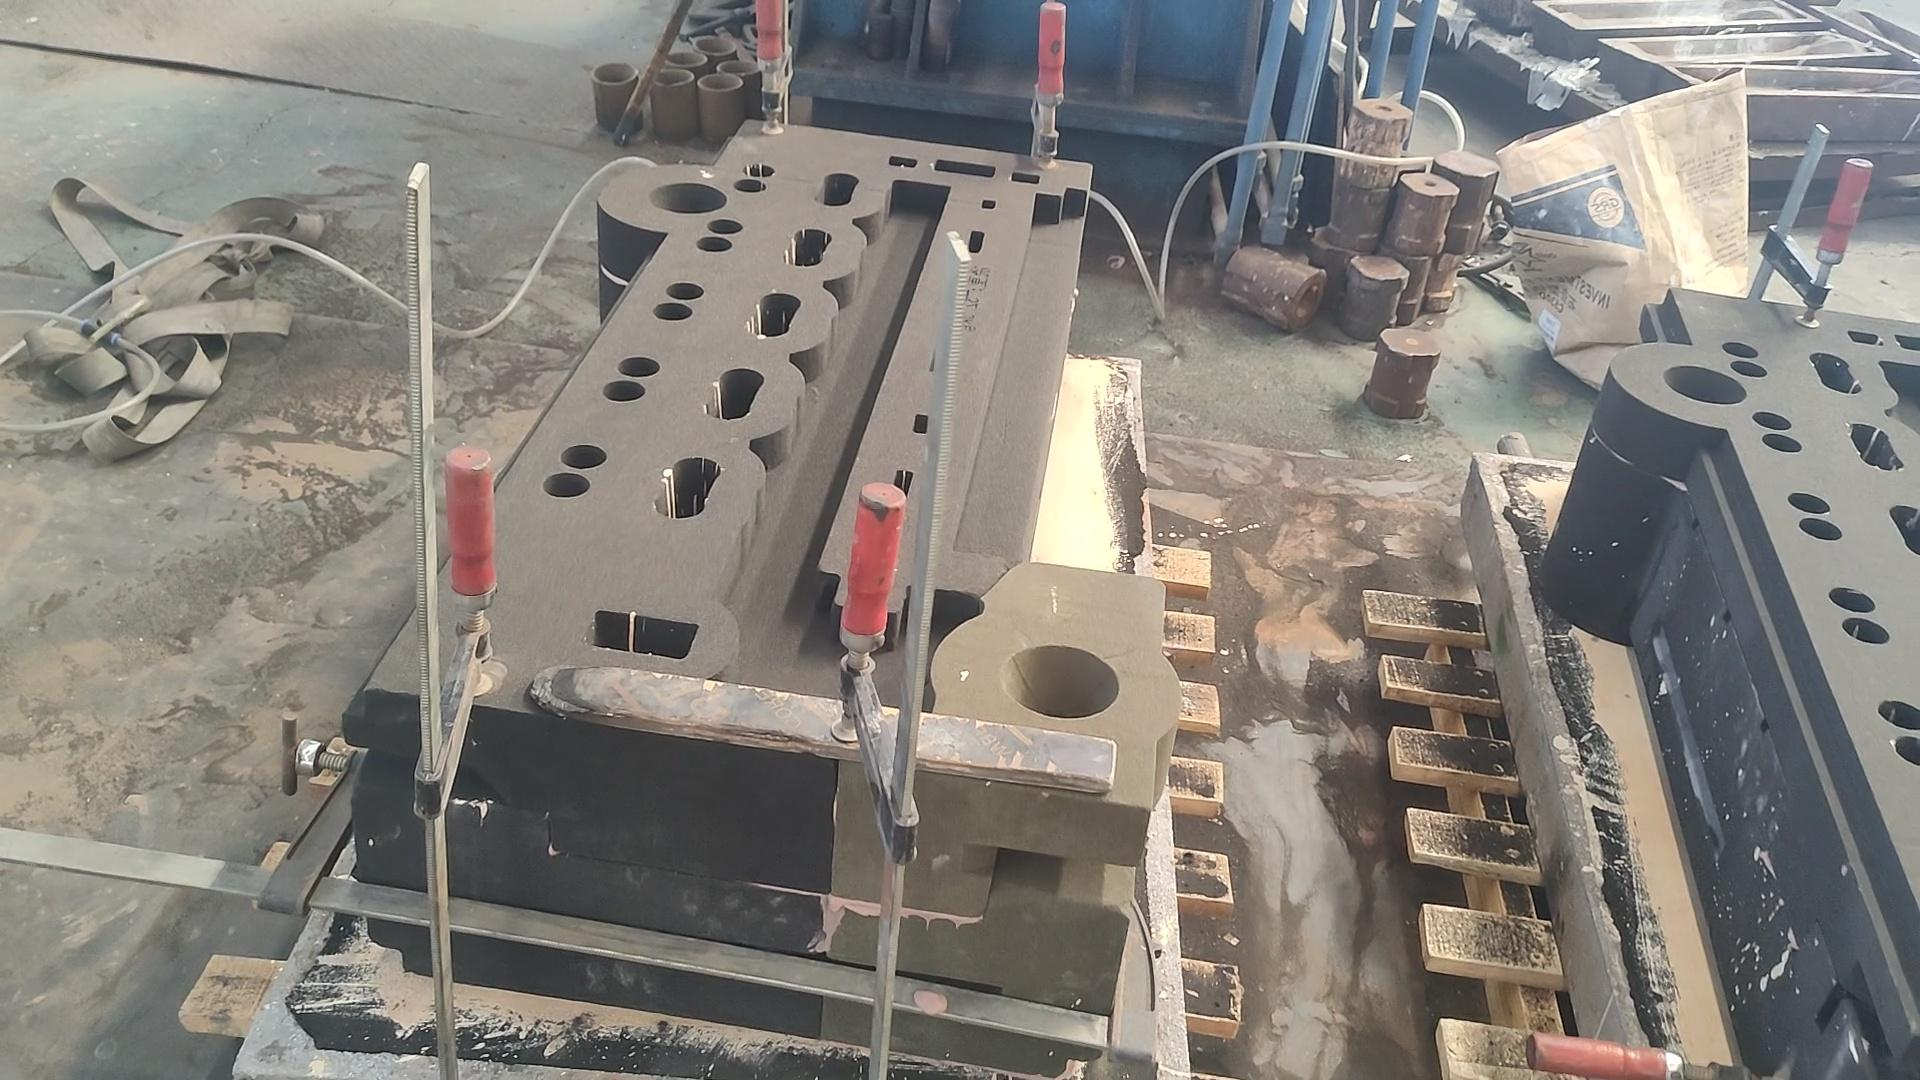pouring hole: (1004, 647, 1120, 717), (1662, 367, 1749, 404), (649, 182, 728, 214), (591, 61, 636, 84), (716, 58, 762, 76), (694, 36, 737, 54), (651, 67, 694, 86), (698, 73, 742, 90), (665, 50, 707, 66)
